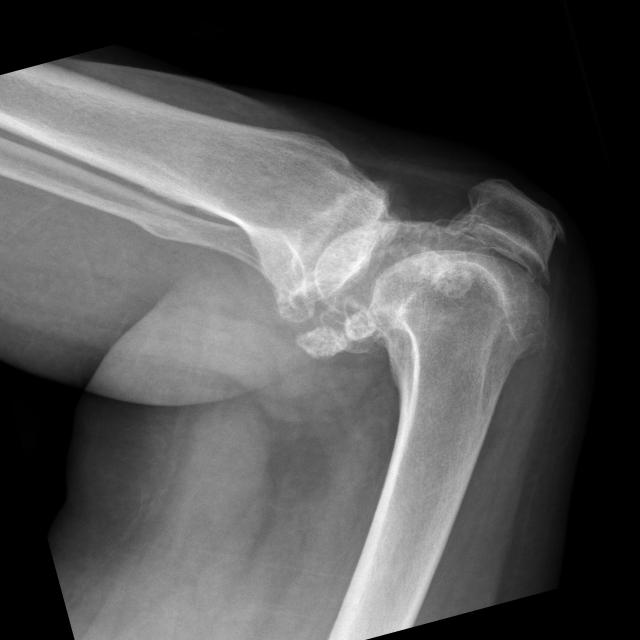Knee: (208, 114, 598, 454)
